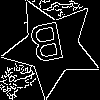B: (27, 21, 68, 72)
